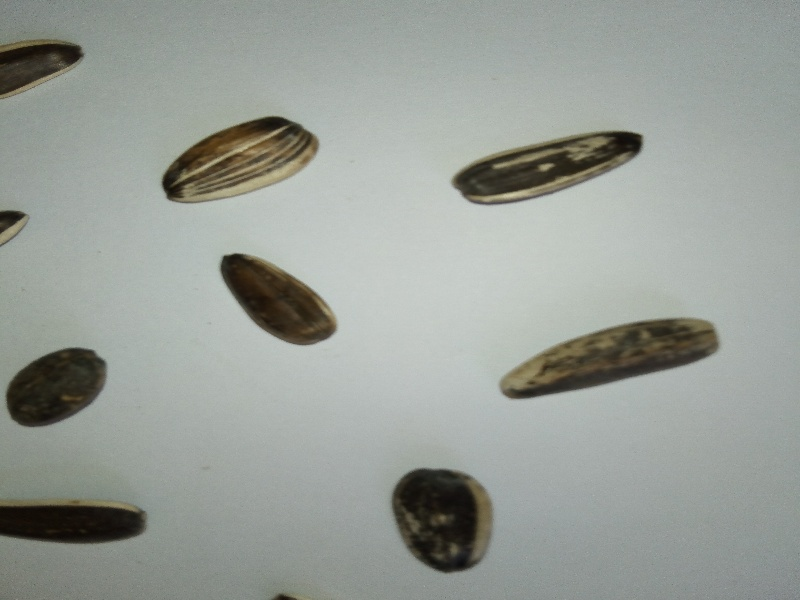girasol: (444, 103, 651, 226), (498, 304, 727, 406), (154, 107, 325, 214), (211, 250, 350, 351), (383, 464, 501, 576), (6, 345, 124, 431)
